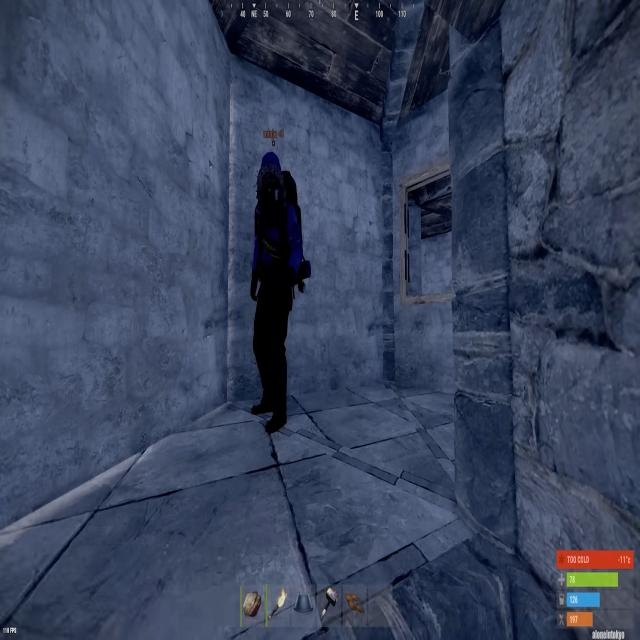Player: (246, 146, 314, 441)
